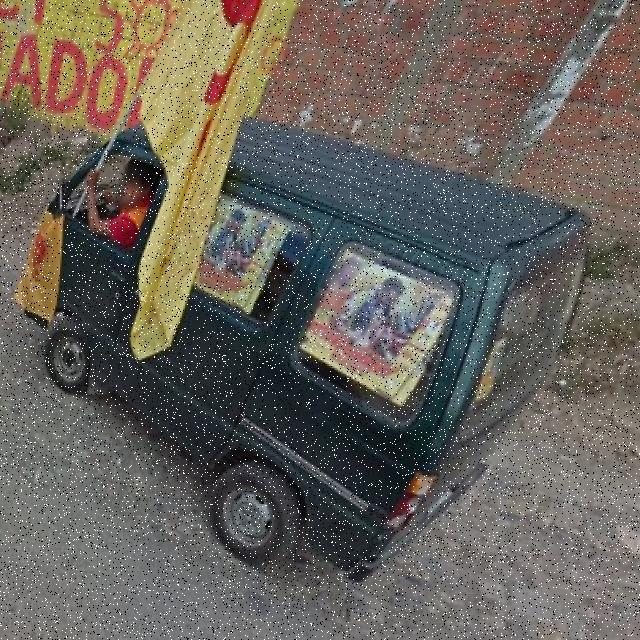cars: (38, 90, 576, 568)
